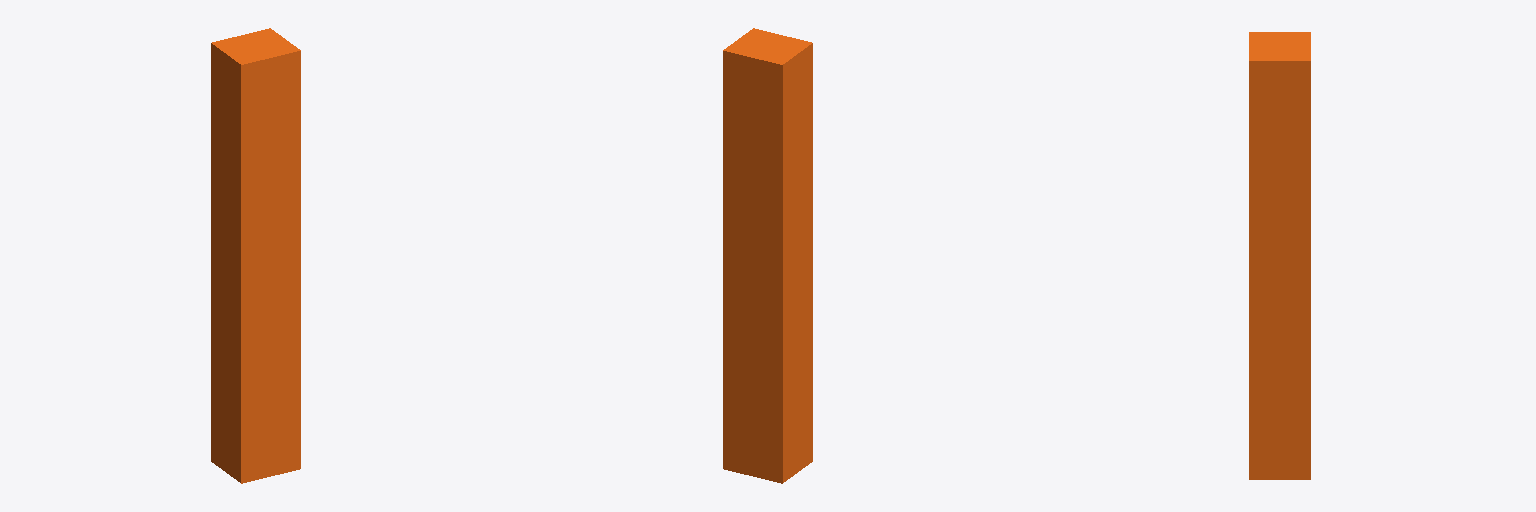
3 renders of one model, left to right at view 1: azimuth 30°, elevation 25°; view 2: azimuth 150°, elevation 25°; view 3: azimuth 270°, elevation 25°, orthographic.
Parts seen in each view (by area): view 1: pCube1; view 2: pCube1; view 3: pCube1.
Boxes of the visible parts, <box> form: pCube1: <box>211,28,300,483</box>; pCube1: <box>723,28,812,483</box>; pCube1: <box>1249,32,1310,479</box>.
Bounding box in the file's own units: 2.14 × 14.33 × 1.9.
1 materials, 1 textured.